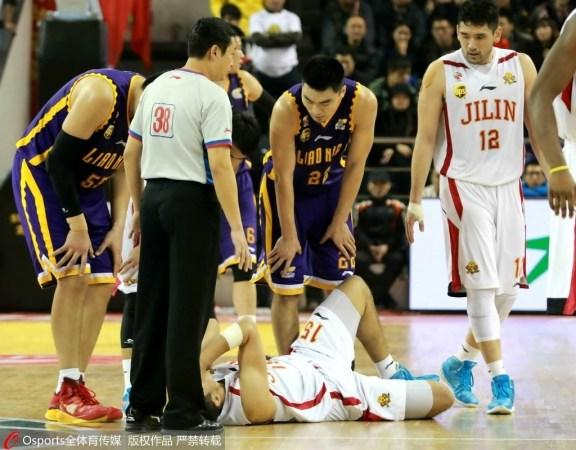bending: (9, 57, 167, 419), (262, 60, 375, 362)
down: (188, 274, 466, 420)
up: (409, 6, 557, 428), (119, 14, 253, 432)
